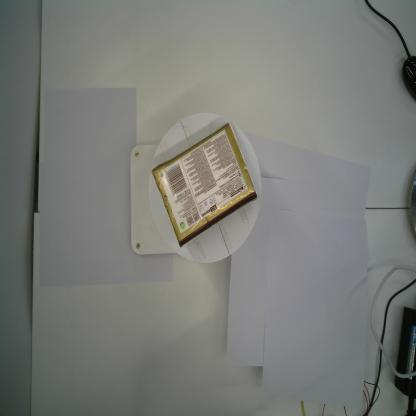Tissue: (150, 120, 258, 249)
